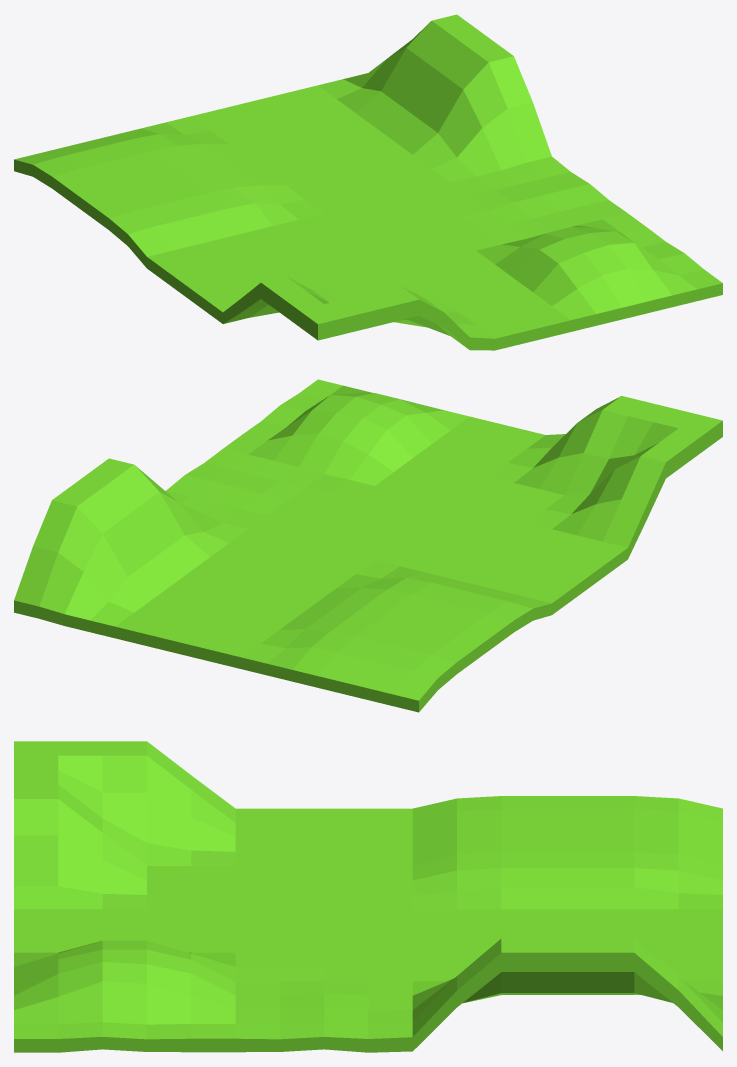
The model's file is Farm_with_Hills.fbx.
The picture shows the model from 3 angles, top to bottom: view 1: azimuth 30°, elevation 25°; view 2: azimuth 150°, elevation 25°; view 3: azimuth 270°, elevation 25°; orthographic projection. The views are drawn at different scales.
Parts seen in each view (by area): view 1: Base; view 2: Base; view 3: Base.
Part boxes in pixels (<box>): Base: <box>14,14,722,350</box>; Base: <box>14,379,722,712</box>; Base: <box>14,741,722,1052</box>.
Size of the model in its own units: 9828 by 1989 by 12776.
